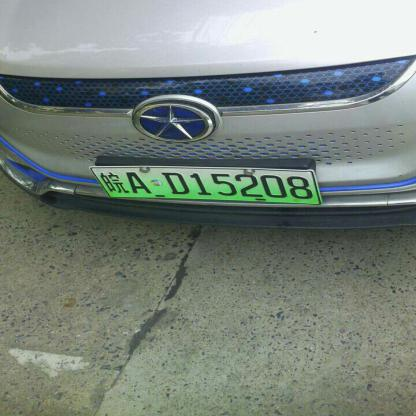lp: (88, 168, 321, 204)
